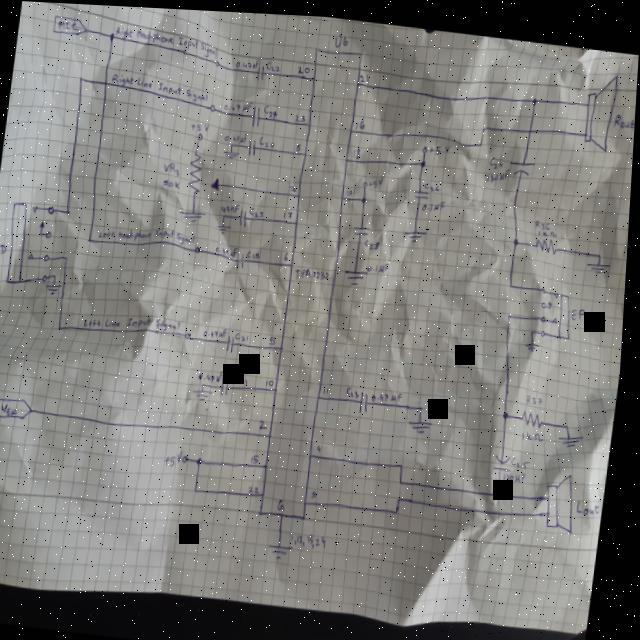capacitor: (509, 151, 537, 172), (497, 447, 517, 467), (250, 102, 264, 126), (228, 330, 240, 352), (239, 204, 251, 226), (363, 388, 375, 408), (355, 219, 372, 233), (248, 134, 259, 154), (224, 373, 234, 394), (237, 250, 248, 269), (413, 184, 432, 195), (256, 63, 266, 79)
crossover: (528, 120, 534, 128), (104, 79, 109, 85)
ground: (273, 538, 302, 560), (410, 413, 438, 432), (404, 222, 430, 239), (563, 426, 589, 443), (346, 264, 369, 282), (180, 206, 209, 220), (588, 253, 613, 268), (196, 386, 217, 400), (527, 335, 544, 348), (223, 147, 242, 158), (48, 282, 65, 294), (218, 221, 234, 232)
junction: (506, 404, 515, 414), (200, 454, 208, 462), (515, 232, 522, 241), (598, 245, 605, 253), (362, 191, 369, 199), (511, 276, 517, 284), (482, 119, 488, 127), (532, 91, 538, 98), (509, 307, 515, 314), (479, 135, 485, 142), (89, 235, 95, 241), (199, 484, 204, 491), (402, 491, 407, 498), (422, 156, 427, 162), (422, 400, 427, 406), (403, 475, 408, 481), (403, 458, 408, 464), (400, 503, 405, 509), (79, 73, 83, 80), (67, 208, 72, 213), (61, 323, 65, 329), (66, 253, 70, 259), (502, 484, 506, 490), (533, 323, 537, 329), (569, 418, 574, 422), (231, 140, 235, 144), (56, 272, 59, 276), (206, 380, 209, 384)
resistor: (186, 149, 225, 194), (536, 230, 561, 249), (525, 404, 547, 422)
terminal: (4, 199, 58, 288), (537, 281, 578, 334), (50, 12, 88, 37), (0, 396, 37, 420), (196, 129, 205, 140), (187, 328, 196, 337), (187, 451, 194, 461), (197, 242, 204, 251), (210, 102, 217, 110), (364, 177, 370, 183), (423, 141, 428, 148), (215, 58, 220, 64)
text: (114, 20, 220, 56), (109, 69, 212, 102), (87, 308, 183, 336), (100, 219, 199, 245), (294, 526, 334, 547), (297, 262, 333, 281), (485, 159, 512, 181), (611, 104, 636, 127), (580, 492, 606, 512), (202, 364, 230, 382), (224, 95, 254, 111), (507, 463, 532, 480), (423, 193, 448, 210), (206, 322, 232, 338), (376, 386, 407, 399), (168, 446, 188, 465), (235, 53, 260, 68), (369, 255, 393, 270), (217, 241, 241, 256), (525, 423, 550, 437), (56, 17, 79, 30), (222, 198, 243, 212), (516, 450, 536, 464), (431, 137, 451, 151), (263, 100, 280, 116), (529, 387, 548, 401), (233, 370, 253, 383), (333, 30, 349, 46), (573, 300, 589, 316), (366, 234, 383, 248), (265, 57, 283, 70), (537, 222, 560, 232), (3, 403, 22, 415), (349, 381, 365, 395), (230, 131, 250, 142), (191, 119, 211, 130), (164, 160, 182, 172), (259, 133, 277, 145), (490, 151, 505, 164), (370, 171, 385, 184), (296, 60, 312, 72), (536, 214, 553, 225), (250, 204, 267, 215), (425, 176, 442, 187), (238, 328, 253, 340), (165, 176, 182, 186), (252, 480, 266, 492), (284, 205, 296, 218), (281, 494, 292, 508), (248, 247, 263, 257), (267, 374, 279, 386), (359, 68, 371, 80), (355, 115, 367, 127), (255, 450, 266, 462), (294, 110, 307, 120), (353, 143, 363, 156), (271, 331, 281, 343), (262, 415, 272, 427), (0, 242, 9, 255), (347, 182, 356, 194), (320, 439, 329, 451), (315, 485, 324, 496), (326, 381, 335, 392), (284, 248, 293, 258), (289, 181, 299, 190), (108, 30, 116, 40), (296, 139, 303, 148)
